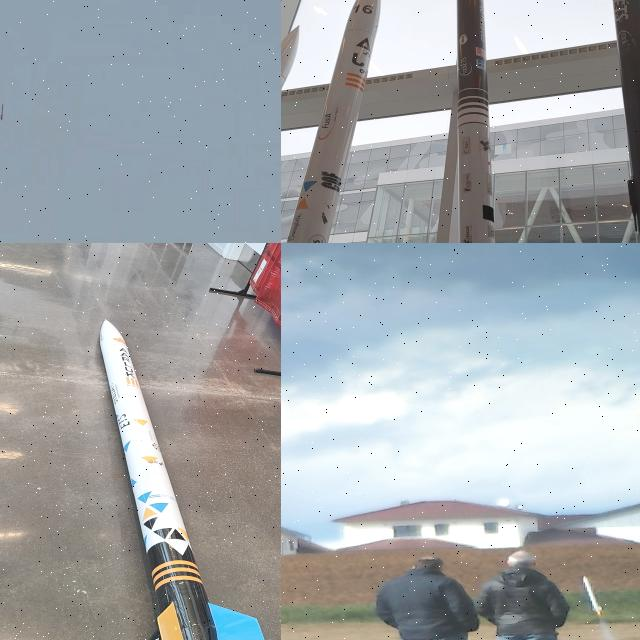Rocket: (98, 317, 265, 640), (286, 0, 381, 243), (457, 0, 495, 243), (580, 574, 604, 614), (0, 102, 4, 120)
